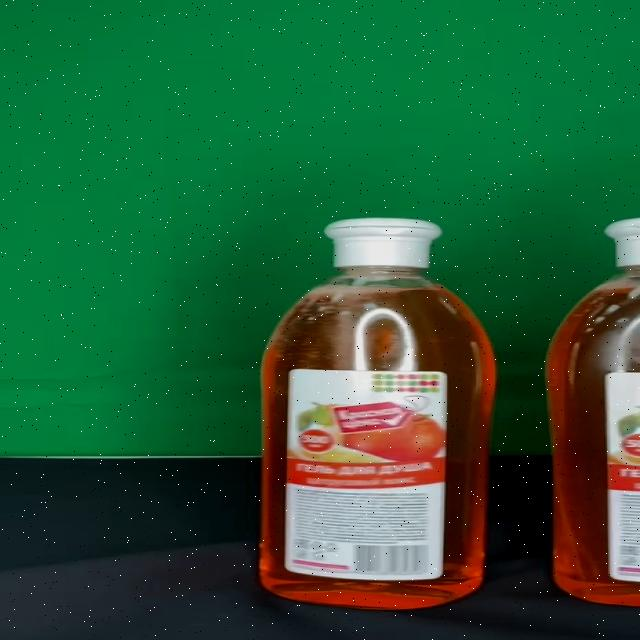Bottle: (261, 219, 497, 609)
Cap: (322, 218, 442, 270)
